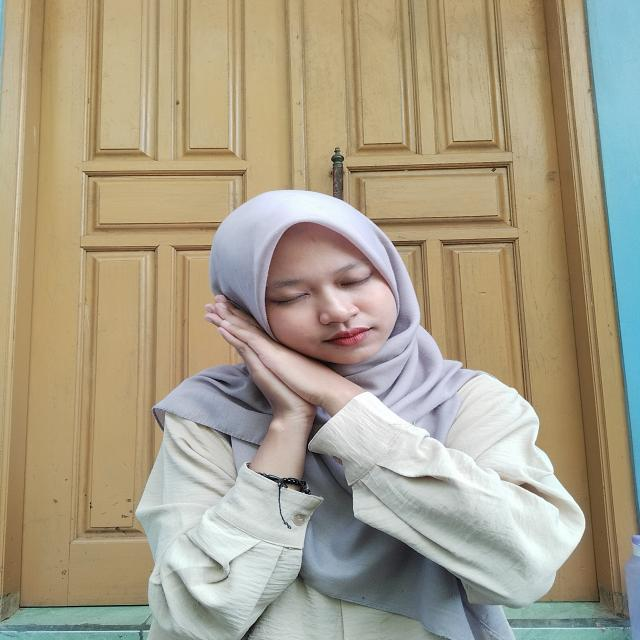tidur: (186, 296, 402, 446)
